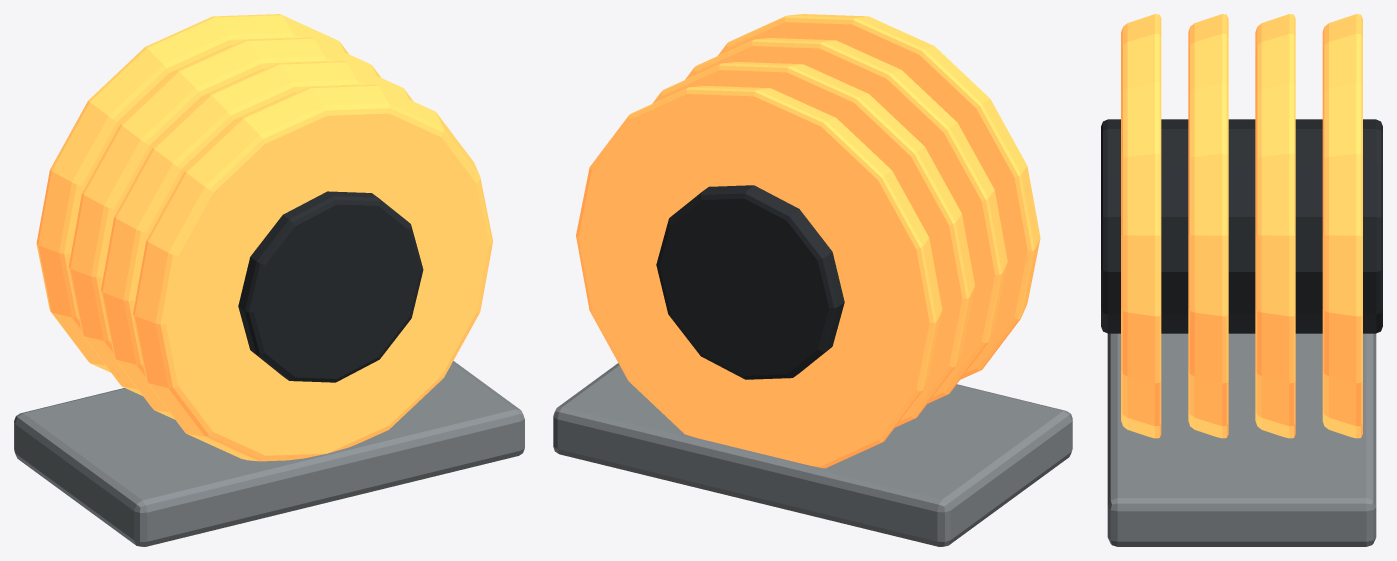
Rendered from drive_coil.glb.
3 views of the same model, side by side, from view 1: azimuth 30°, elevation 25°; view 2: azimuth 150°, elevation 25°; view 3: azimuth 270°, elevation 25° (orthographic). The views are drawn at different scales.
Visible parts, largest first — view 1: winding3, bracket, core, winding2, winding1, winding0; view 2: winding0, bracket, core, winding2, winding3, winding1; view 3: bracket, core, winding3, winding1, winding0, winding2.
Boxes of the visible parts, box(x1,y1,x2,y2) form: winding3: box(133, 84, 492, 461); bracket: box(14, 361, 524, 546); core: box(238, 191, 423, 382); winding2: box(101, 61, 413, 419); winding1: box(68, 37, 381, 395); winding0: box(36, 14, 348, 372); winding0: box(576, 86, 942, 468); bracket: box(553, 363, 1072, 546); core: box(656, 185, 844, 379); winding2: box(685, 38, 1007, 403); winding3: box(718, 14, 1040, 379); winding1: box(652, 62, 974, 427); bracket: box(1107, 333, 1376, 546); core: box(1101, 119, 1382, 333); winding3: box(1121, 14, 1161, 438); winding1: box(1255, 14, 1295, 438); winding0: box(1322, 14, 1362, 438); winding2: box(1188, 14, 1228, 438).
Bounding box in the file's own units: 0.7 × 0.6868 × 0.42.
